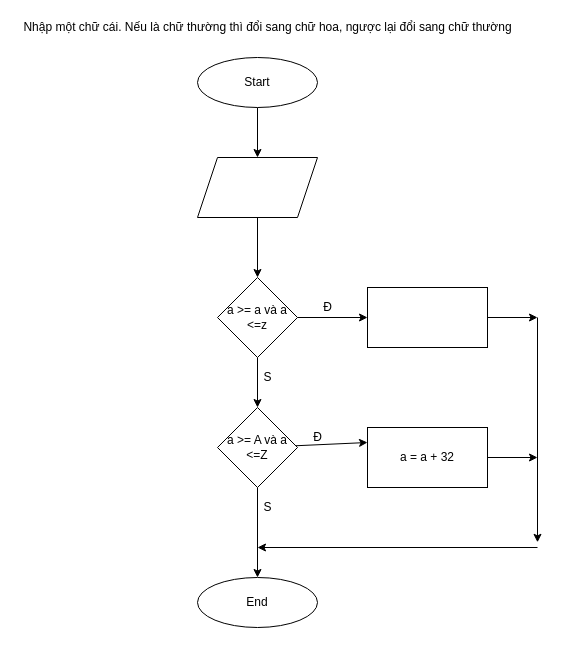
Image size: 563x645. Some labels were removed from this diagram. The shapes that lost their labels are listed below. From the top down, each one's centre as x and y in pixels, then its label:
At [257,187]: "Nhập a".
At [427,317]: "a = a - 32".
